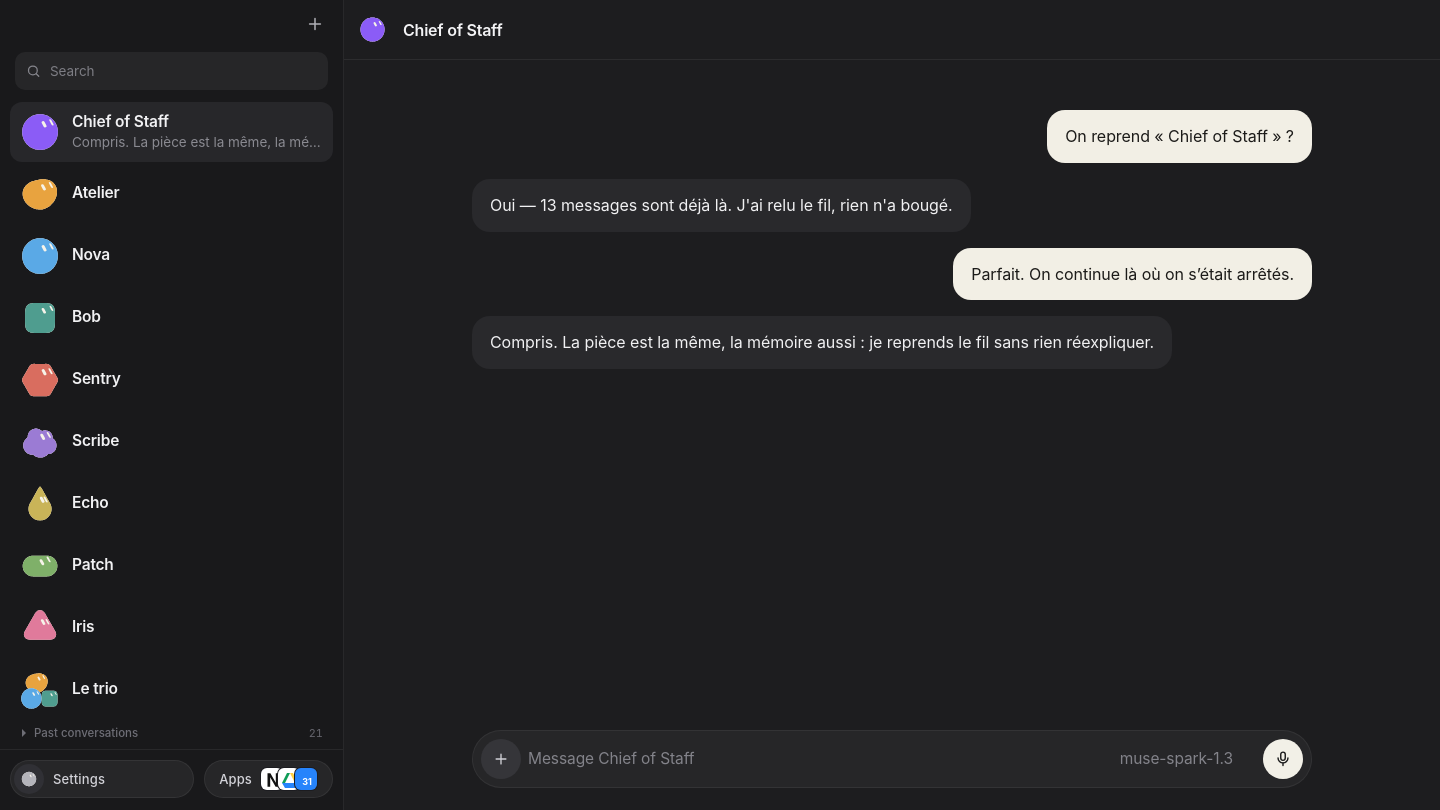
Test case: the window with a host that is not there › reads a conversation and answers a turn, all in memory
The image size is (1440, 810).
Click the button "Past conversations 21" at (86, 733), box [10,719,333,747]
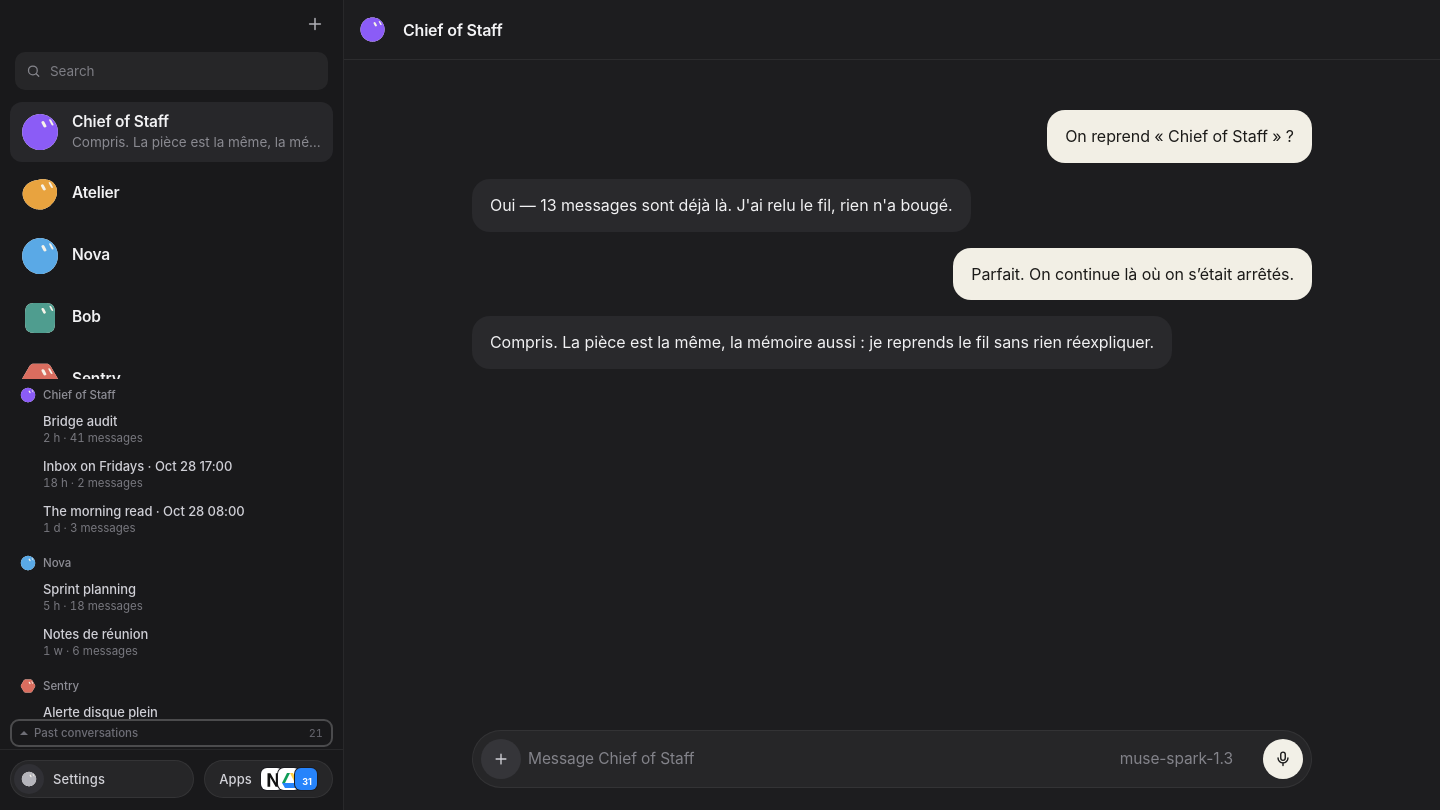
Click the button "Bridge audit 2 h · 41 messages" at (80, 421), box [10,407,333,451]
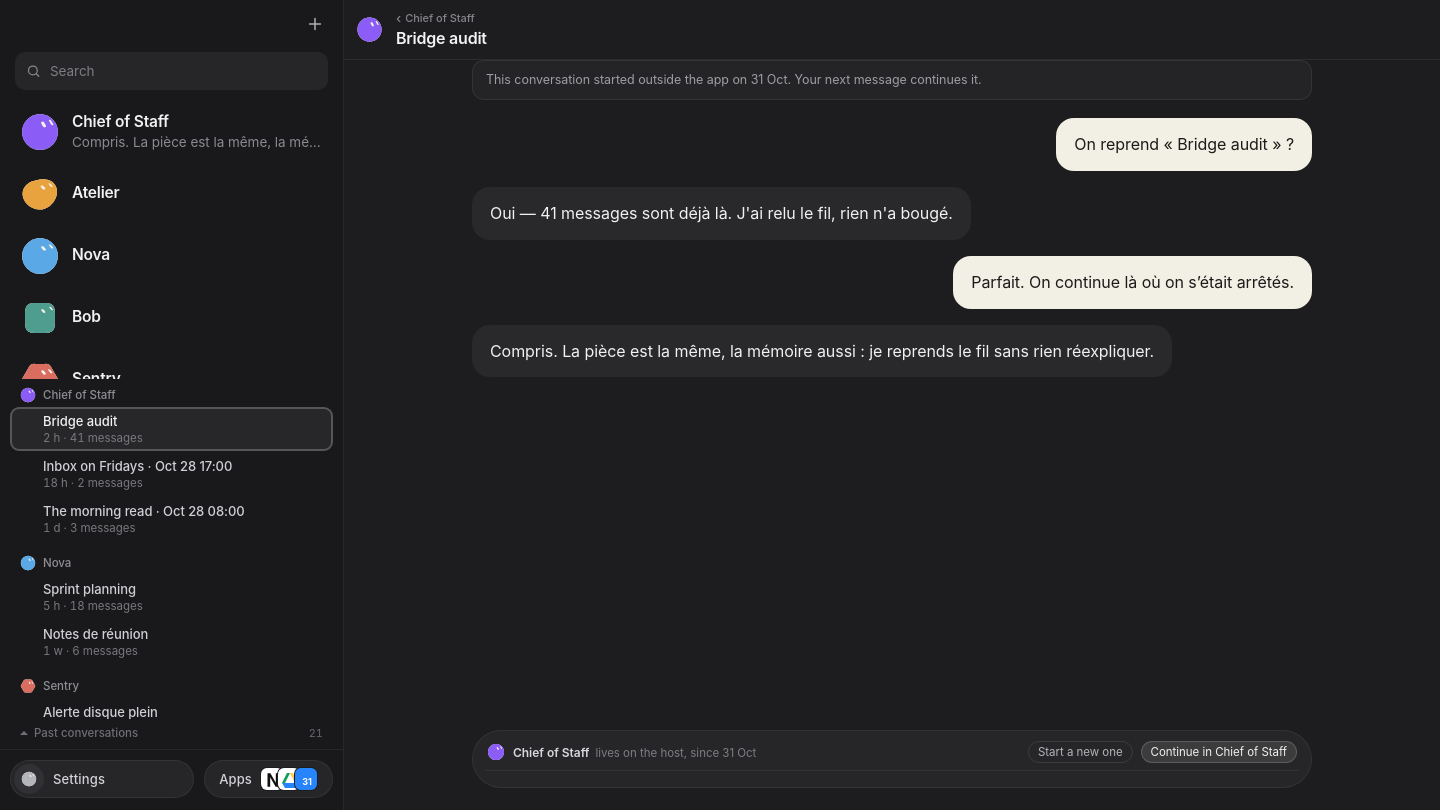
Now the text "On reprend « Bridge audit » ?" is shown, box [1056,118,1312,171]
